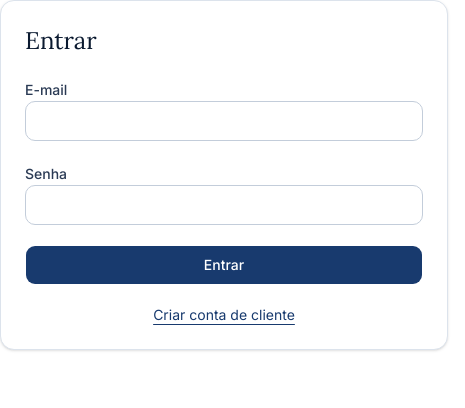
Test case: LoginForm › shows the server message on failure
The image size is (465, 408).
Type "x@b.com" into the field labelled "E-mail" at (224, 121), box [25,101,423,141]
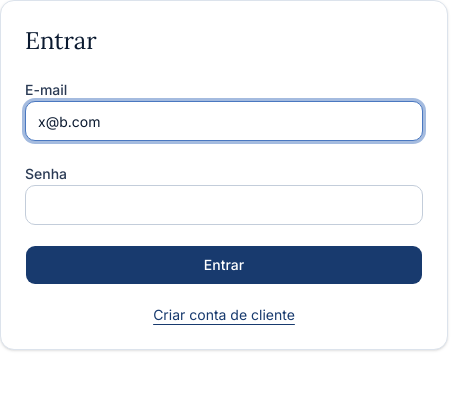
Type "errada" into the password field labelled "Senha" at (224, 205), box [25,185,423,225]
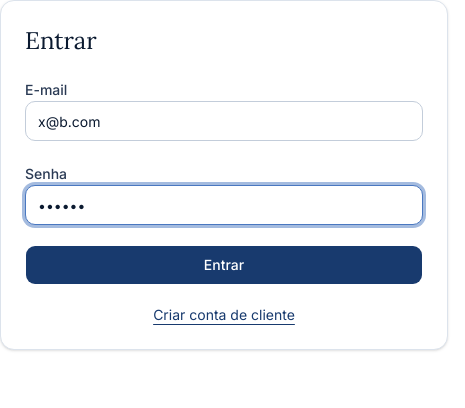
Click the button "Entrar" at (224, 265), box [25,245,423,285]
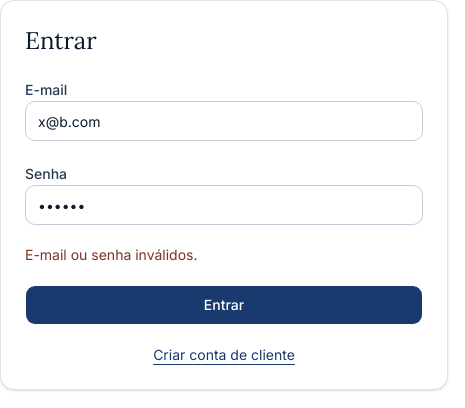
Expected: the message reads "E-mail ou senha inválidos.", [25,246,198,263]
